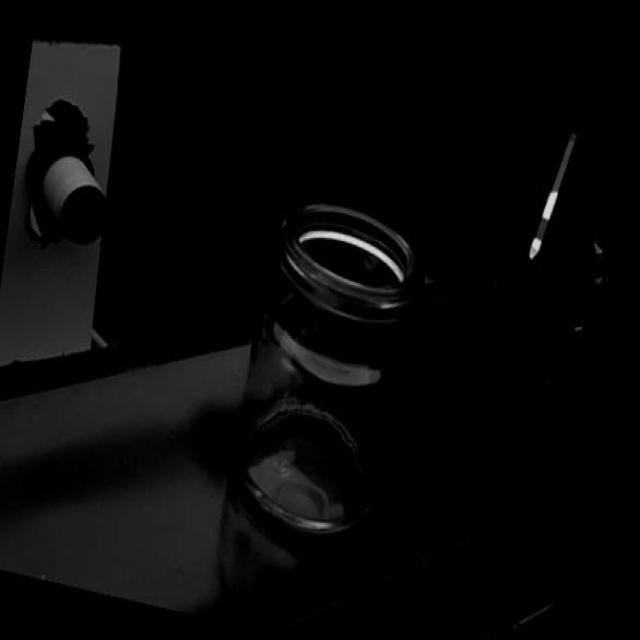glass: (217, 173, 434, 558)
